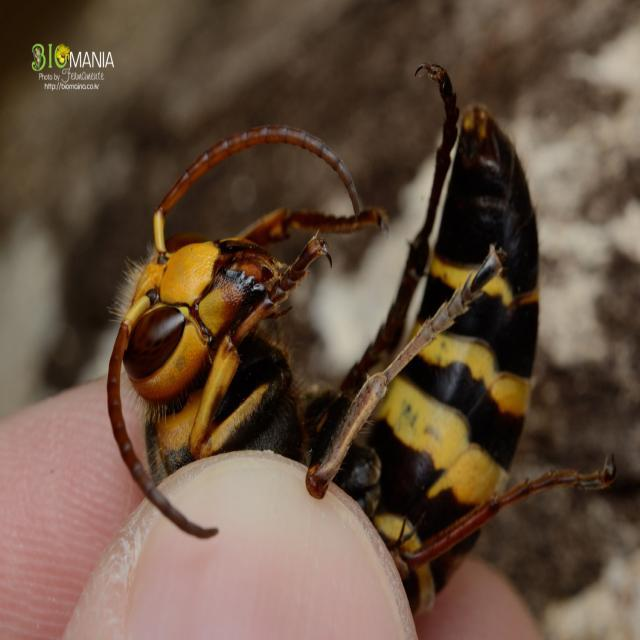Wasp: (107, 61, 539, 626)
